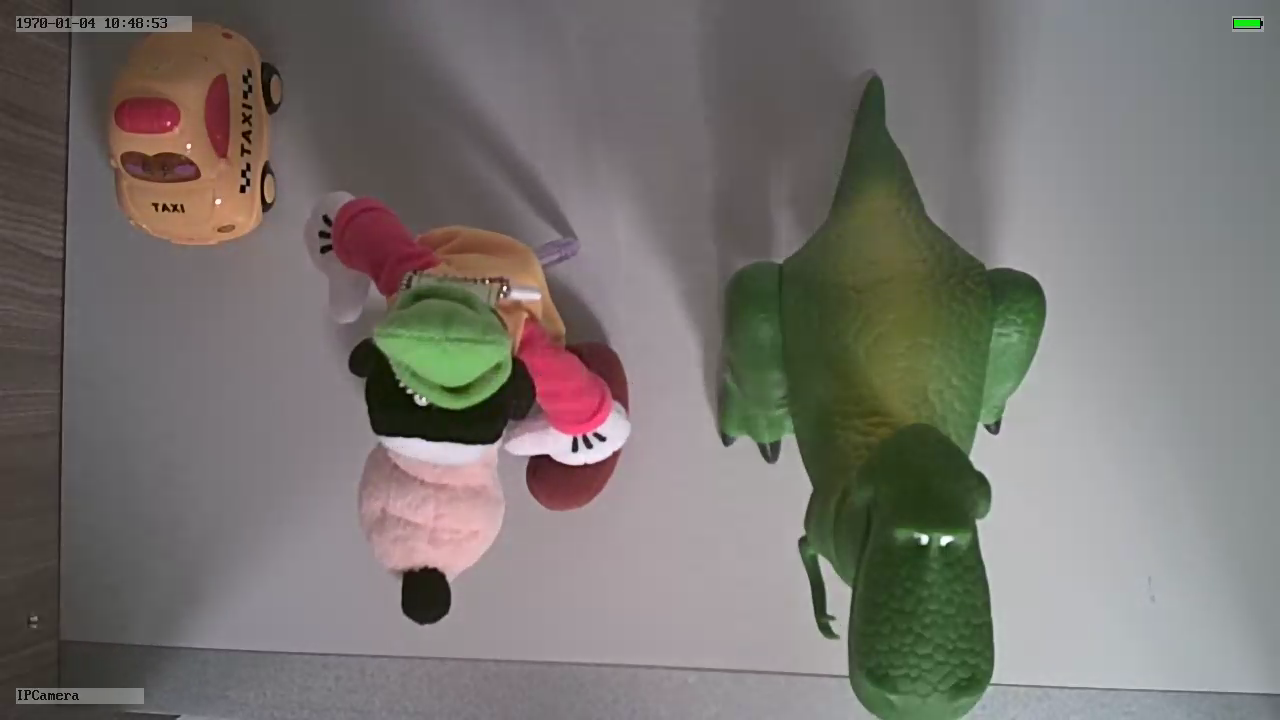goofy: (298, 182, 634, 635)
